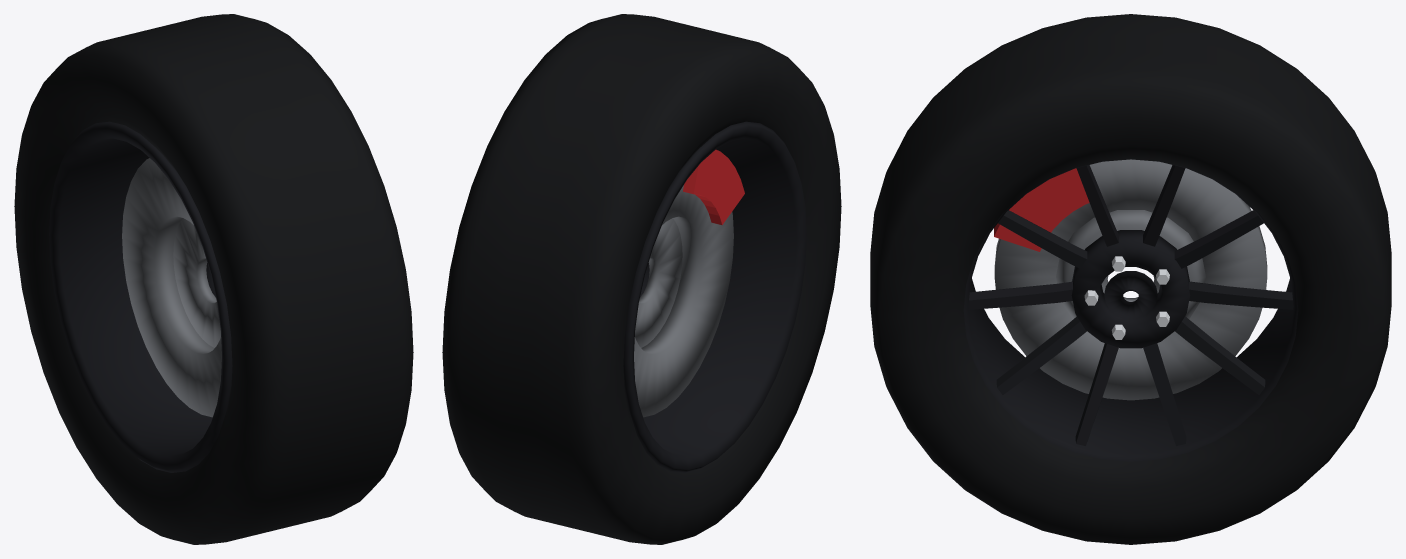
Rendered from w05_multi10_17.glb.
3 views of the same model, side by side, from view 1: azimuth 30°, elevation 25°; view 2: azimuth 150°, elevation 25°; view 3: azimuth 270°, elevation 25° (orthographic).
Parts seen in each view (by area): view 1: wheel, brake; view 2: wheel, brake; view 3: wheel, brake.
Part boxes in pixels (<box>): wheel: <box>14,14,413,544</box>; brake: <box>122,158,221,417</box>; wheel: <box>442,14,841,544</box>; brake: <box>634,149,744,417</box>; wheel: <box>870,14,1391,544</box>; brake: <box>994,159,1267,400</box>.
Size of what is drawn, in the model's own units: 0.235 by 0.66 by 0.66.
